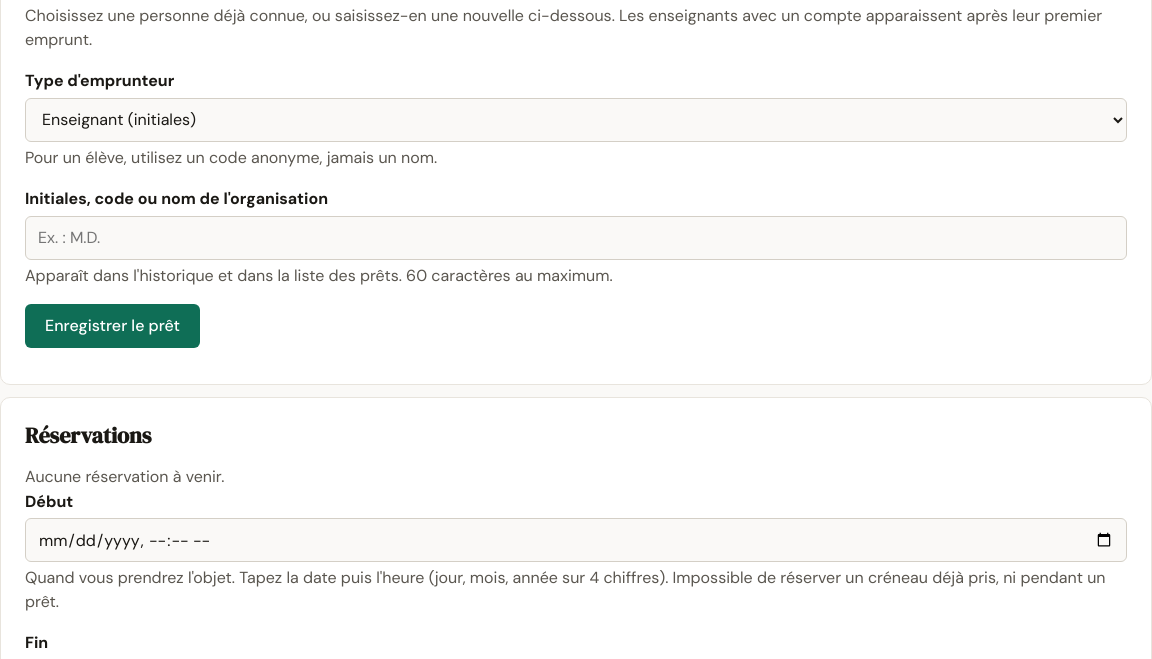
Test: Fiche : prêt › gestionnaire : refuse de prêter sans emprunteur et le dit
The image size is (1152, 659).
(page scrolled)
Click the button "Enregistrer le prêt". click: (112, 326)
box: 25,304 -> 200,348
(page scrolled)
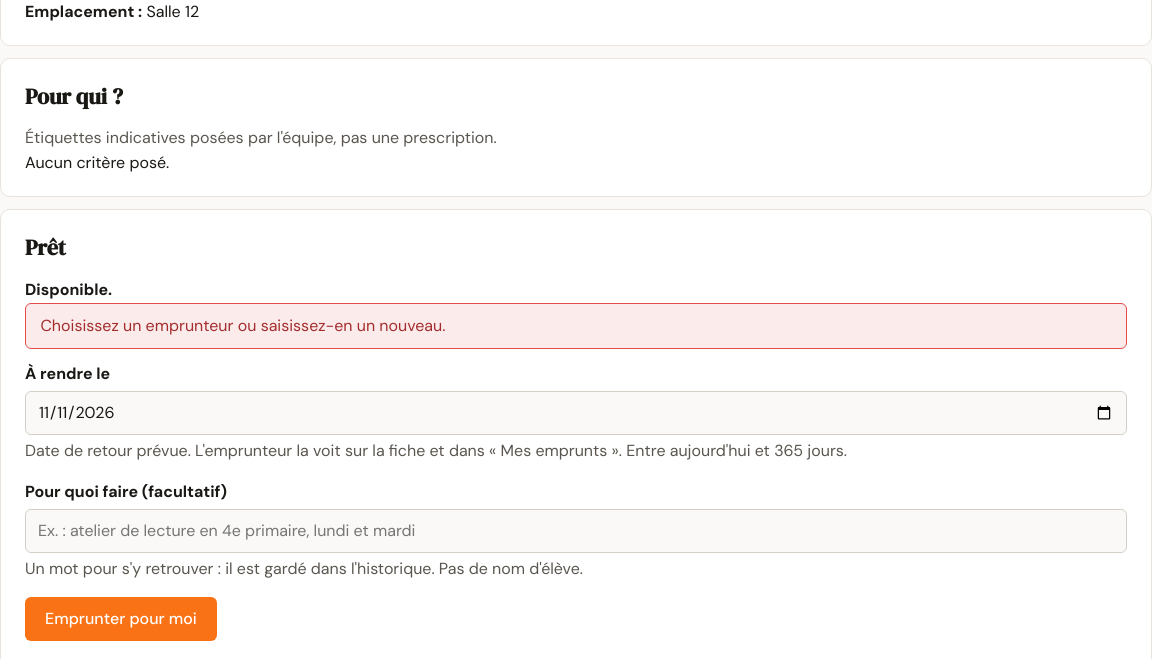
Expected: the text "Choisissez un emprunteur ou saisissez-en un nouveau." is shown, 25,302 -> 1127,349
